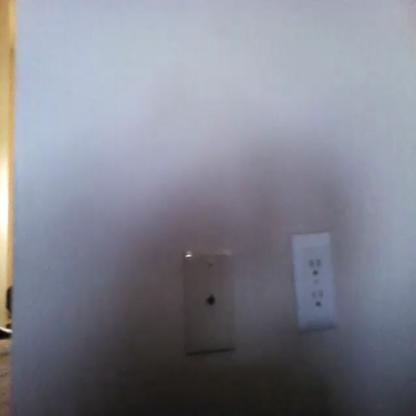OUTLET: (292, 234, 337, 328)
